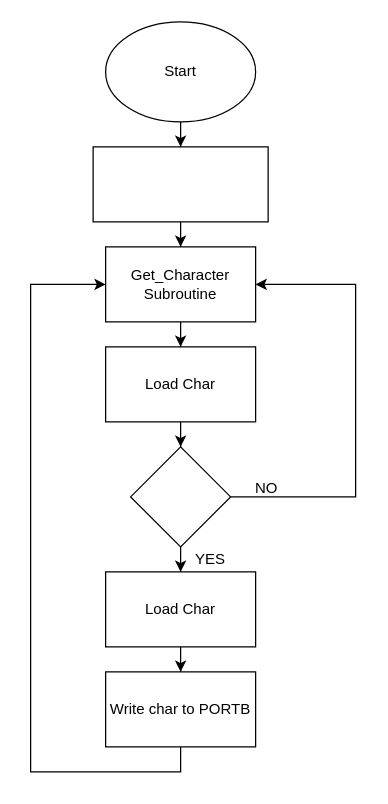
This 388x804 diagram has some shape labels left out. The shapes that lost their labels are listed below. From the top down, each one's centre as x and y in pixels, then its label:
point 180,184: Set PORTB as output Initialize prescaler Enable USART
point 180,496: RXC1=1?
